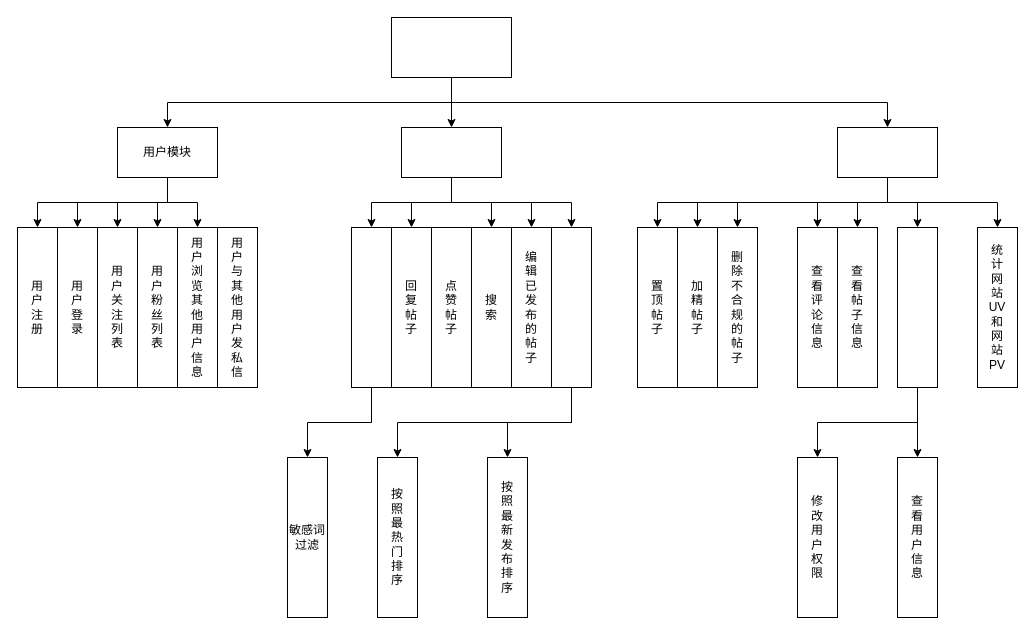
Some shapes in this 1035 by 635 pixel diagram are drawn without their labels. The centre of each missing label's shape, as x and y in pixels:
"发 贴" goes at (371,307).
"帖子模块" goes at (451,152).
"旅游论坛网站" goes at (451,47).
"浏 览 帖 子" goes at (571,307).
"管 理 用 户" goes at (917,307).
"管理员模块" goes at (887,152).
